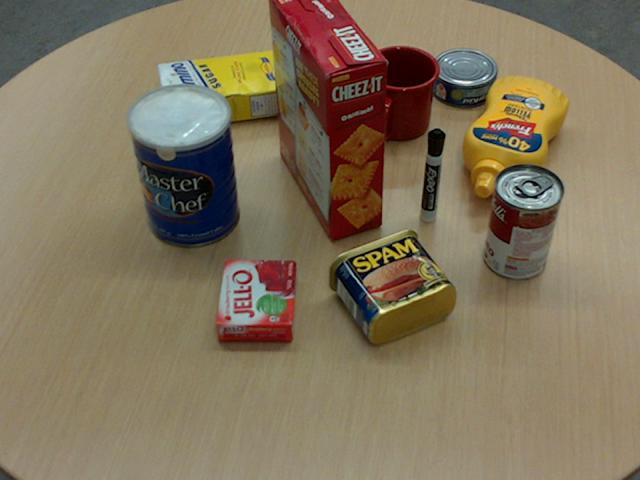cracker_box: (268, 0, 385, 239)
gelatin_box: (215, 258, 297, 340)
large_marker: (421, 129, 444, 221)
master_chef_can: (127, 83, 239, 247)
mug: (362, 45, 440, 139)
mustard_bottle: (461, 76, 567, 197)
potted_meat_can: (327, 227, 455, 342)
sugar_box: (156, 47, 307, 128)
tomato_soup_can: (483, 163, 563, 278)
tuna_fish_can: (429, 48, 496, 106)
